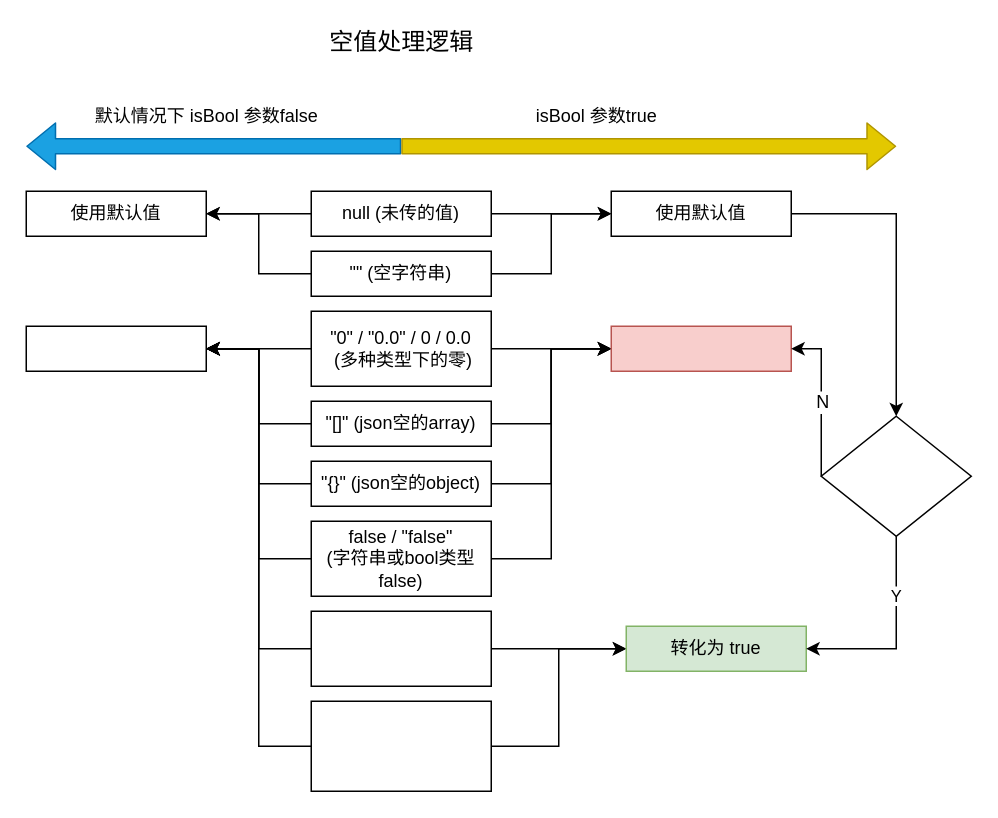
Some shapes in this 998 by 818 pixel diagram are drawn without their labels. Each missing label, with the centre of its shape:
!empty(默认值): point (895, 475)
"abc" / ['abc'] / {a:b} (存在值的字符串、数组、对象): point (400, 745)
true "true" (字符串或bool类型true): point (400, 648)
使用原始值: point (115, 348)
转化为 false: point (700, 348)
